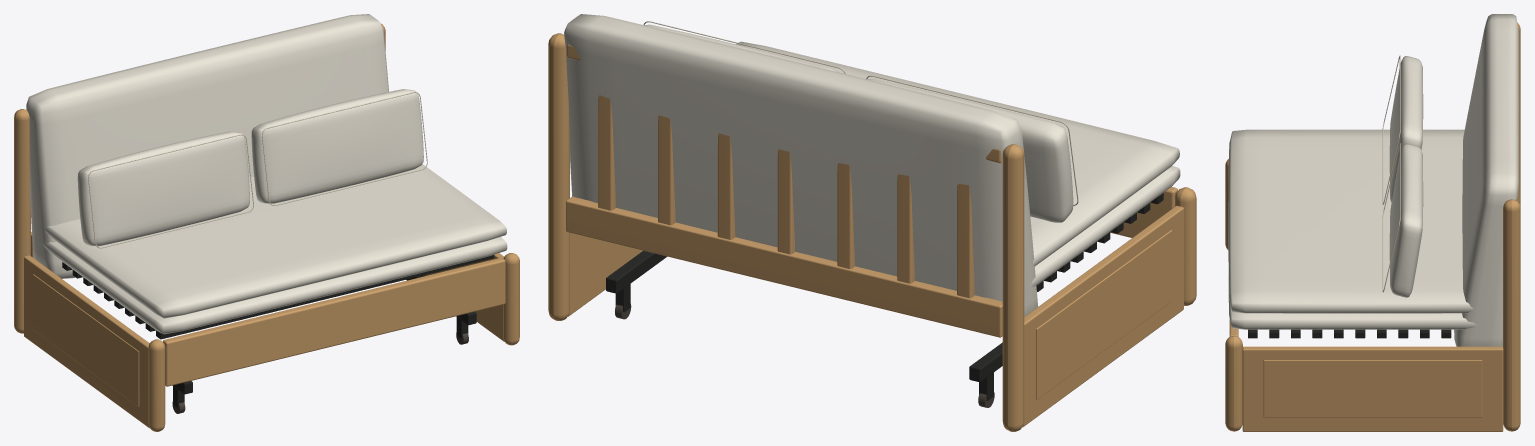
Rendered from sofa-bed-v1.glb.
The picture shows the model from 3 angles, left to right: view 1: azimuth 30°, elevation 25°; view 2: azimuth 150°, elevation 25°; view 3: azimuth 270°, elevation 25°; orthographic projection. The views are drawn at different scales.
Parts seen in each view (by area): view 1: back-cushion, seat-upper, front-rail, lumbar-left, lumbar-right, seat-lower, side-inset-left, side-panel-left, back-post-left, front-post-left, front-post-right, steel-slat-11 (+3 smaller); view 2: back-cushion, back-rail, seat-upper, side-inset-left, side-panel-left, back-post-left, back-post-right, lumbar-left, side-panel-right, seat-lower, back-slat-6, back-slat-0 (+10 smaller); view 3: seat-upper, back-cushion, side-inset-right, side-panel-right, lumbar-right, seat-lower, back-post-right, lumbar-left, front-post-right, lumbar-piping-left, lumbar-piping-right, back-post-left (+1 smaller).
Part boxes in pixels (x1,y1,x2,y2): back-cushion: [26, 14, 388, 278]; seat-upper: [44, 164, 506, 318]; front-rail: [163, 257, 505, 386]; lumbar-left: [77, 131, 249, 246]; lumbar-right: [251, 89, 423, 203]; seat-lower: [41, 237, 507, 334]; side-inset-left: [33, 274, 139, 406]; side-panel-left: [24, 255, 149, 428]; back-post-left: [14, 109, 30, 333]; front-post-left: [148, 339, 165, 431]; front-post-right: [503, 253, 519, 345]; steel-slat-11: [156, 255, 494, 339]; back-cushion: [564, 14, 1037, 316]; back-rail: [566, 196, 1002, 337]; seat-upper: [736, 41, 1179, 265]; side-inset-left: [1036, 230, 1172, 399]; side-panel-left: [1022, 206, 1183, 427]; back-post-left: [1002, 144, 1024, 431]; back-post-right: [548, 33, 569, 320]; lumbar-left: [868, 79, 1073, 222]; side-panel-right: [568, 233, 642, 316]; seat-lower: [1029, 166, 1180, 286]; back-slat-6: [598, 95, 615, 210]; back-slat-0: [957, 183, 974, 298]; seat-upper: [1228, 129, 1473, 313]; back-cushion: [1454, 14, 1518, 346]; side-inset-right: [1263, 360, 1482, 417]; side-panel-right: [1242, 346, 1503, 431]; lumbar-right: [1389, 143, 1423, 297]; seat-lower: [1228, 241, 1478, 329]; back-post-right: [1503, 199, 1520, 431]; lumbar-left: [1389, 56, 1423, 202]; front-post-right: [1225, 335, 1242, 431]; lumbar-piping-left: [1382, 55, 1400, 204]; lumbar-piping-right: [1382, 143, 1400, 292]; back-post-left: [1517, 22, 1520, 206].
Size of the model in its own units: 1.25 by 0.77 by 0.838.
